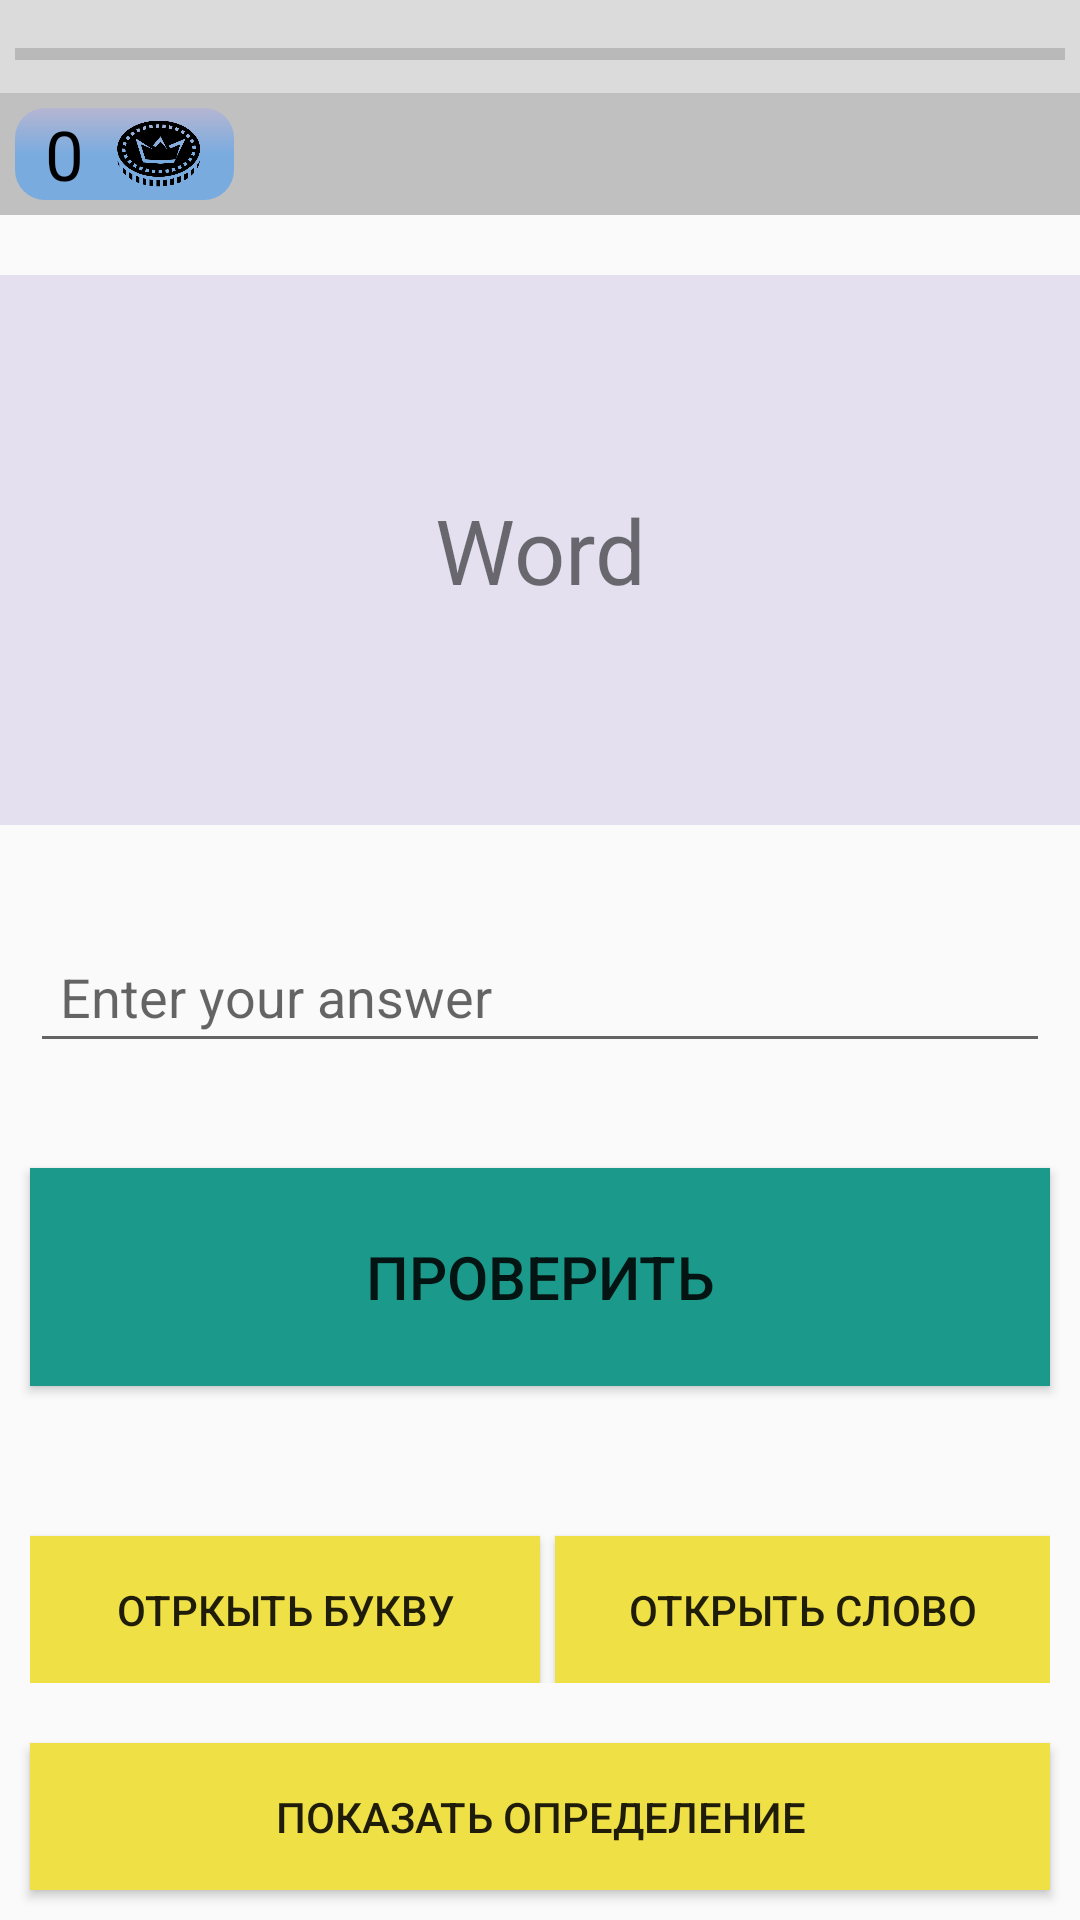

Named icons in this screenshot (1080*1920) and their centers, (x=x, y=y):
crowncoin: (x=159, y=153)
